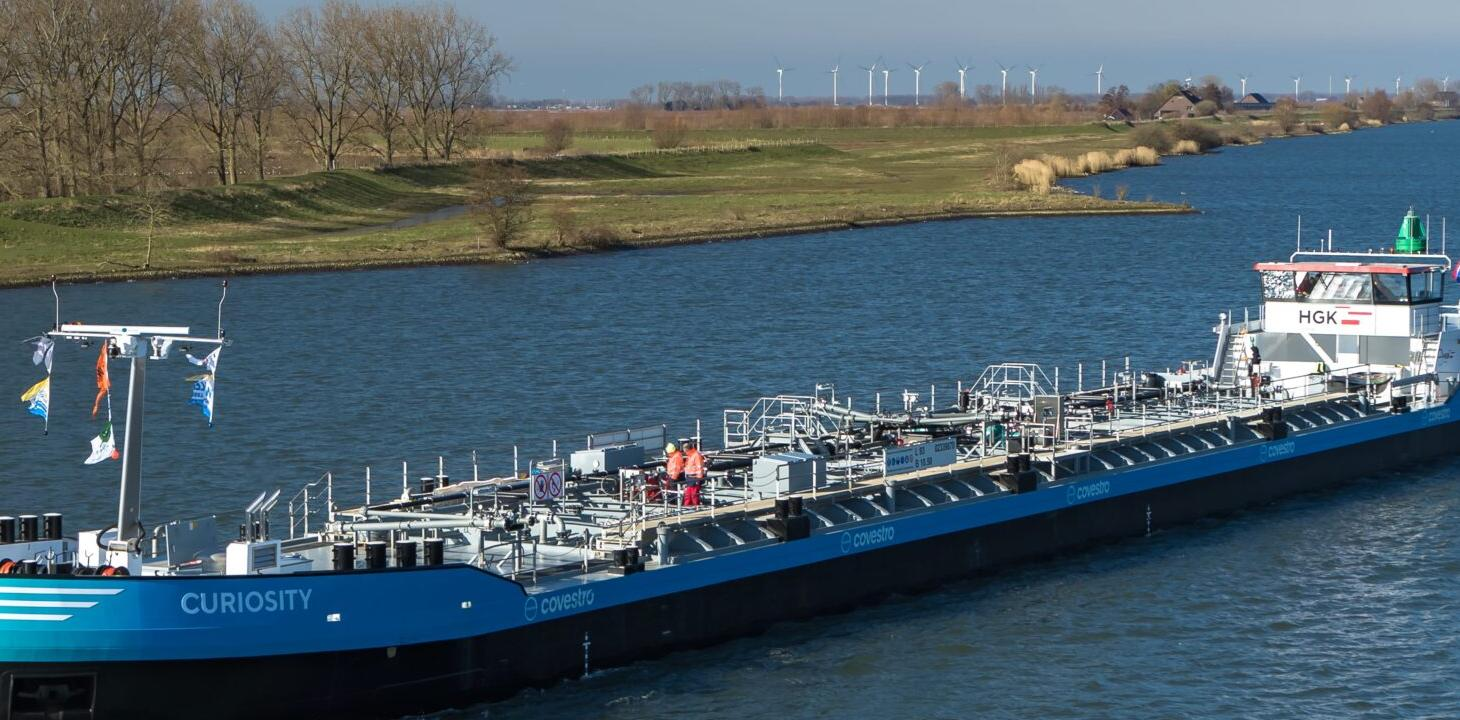Ship: (0, 56, 1159, 561)
